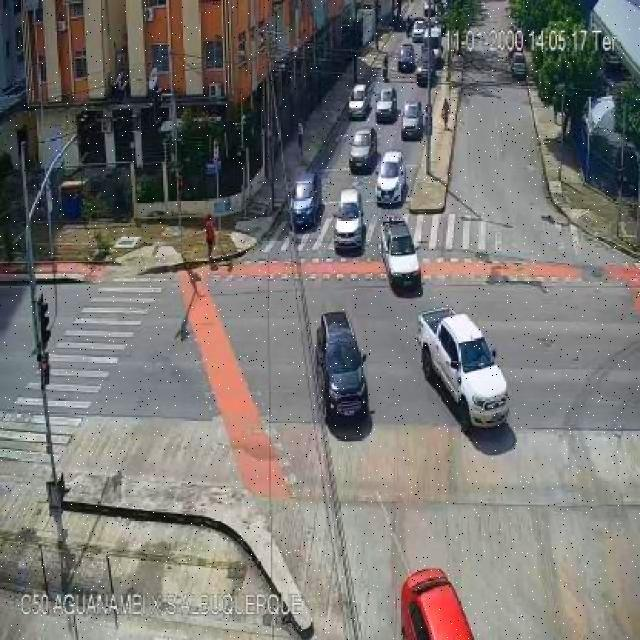Car: (412, 302, 506, 450), (394, 558, 475, 640), (316, 310, 369, 422), (379, 216, 422, 294), (333, 190, 365, 252), (290, 172, 322, 231), (377, 149, 408, 201), (348, 125, 376, 171), (400, 100, 423, 140), (374, 87, 398, 122), (396, 41, 420, 76), (348, 84, 371, 120), (411, 53, 437, 84), (508, 48, 528, 82)
